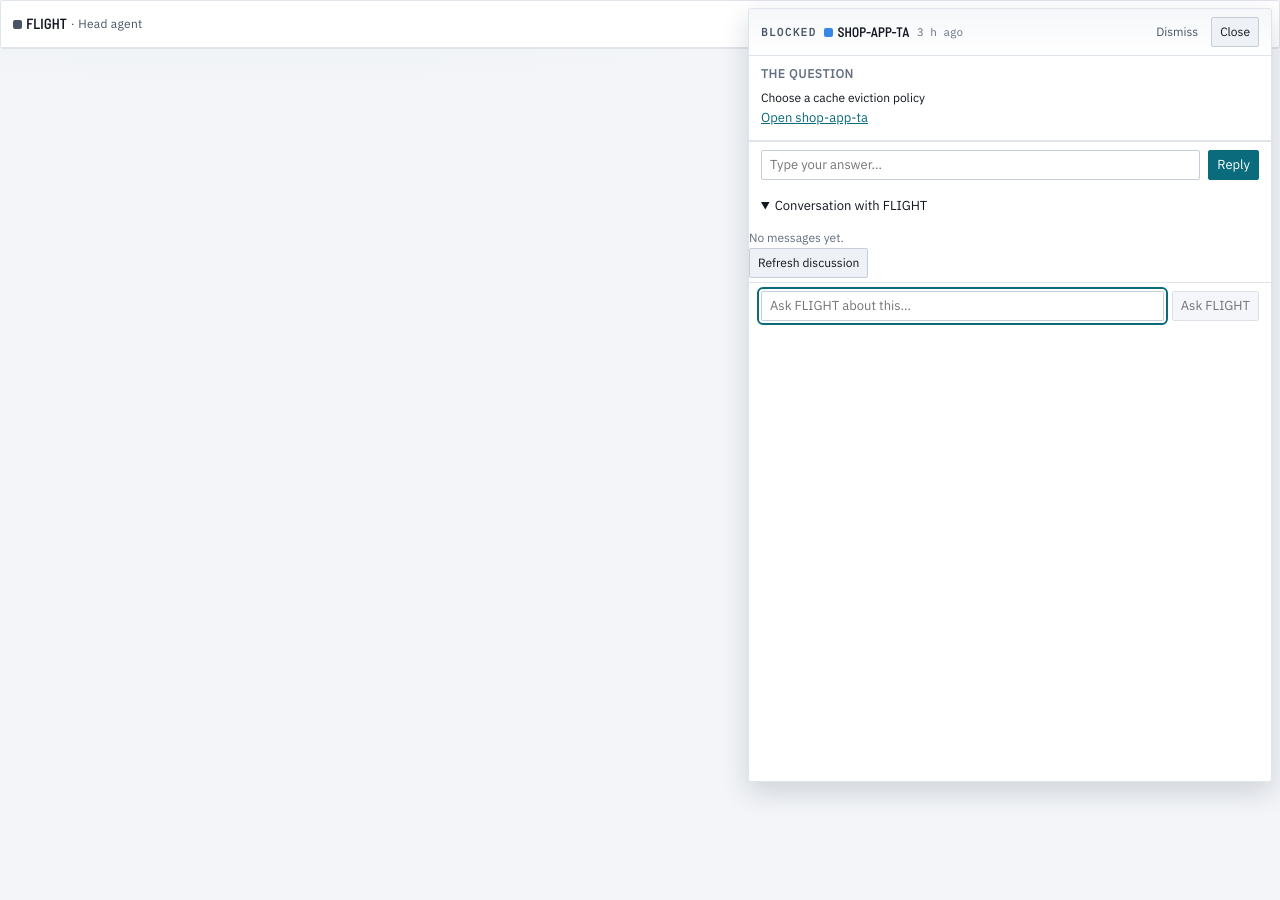
Scenario: ItemPanel, acting on an item › Dismiss shows the refusal text and keeps the panel
This screenshot has width=1280, height=900.
Click the button "Dismiss" at x=1177, y=32, box [1147,17,1207,47]
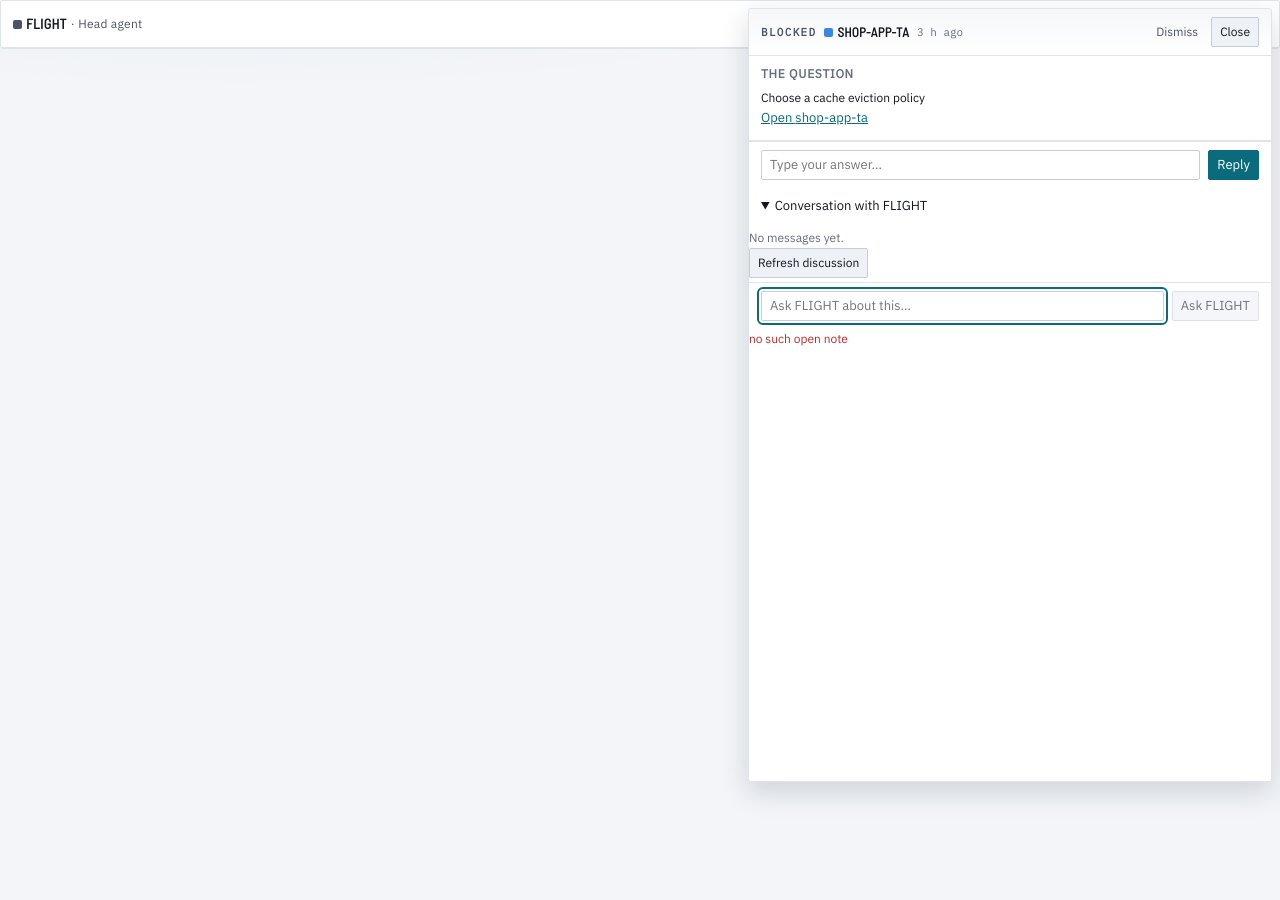
Expected: the element with id "discuss" is shown, [740,0,1279,899]
Now the message reads "no such open note", box [749,331,848,346]
